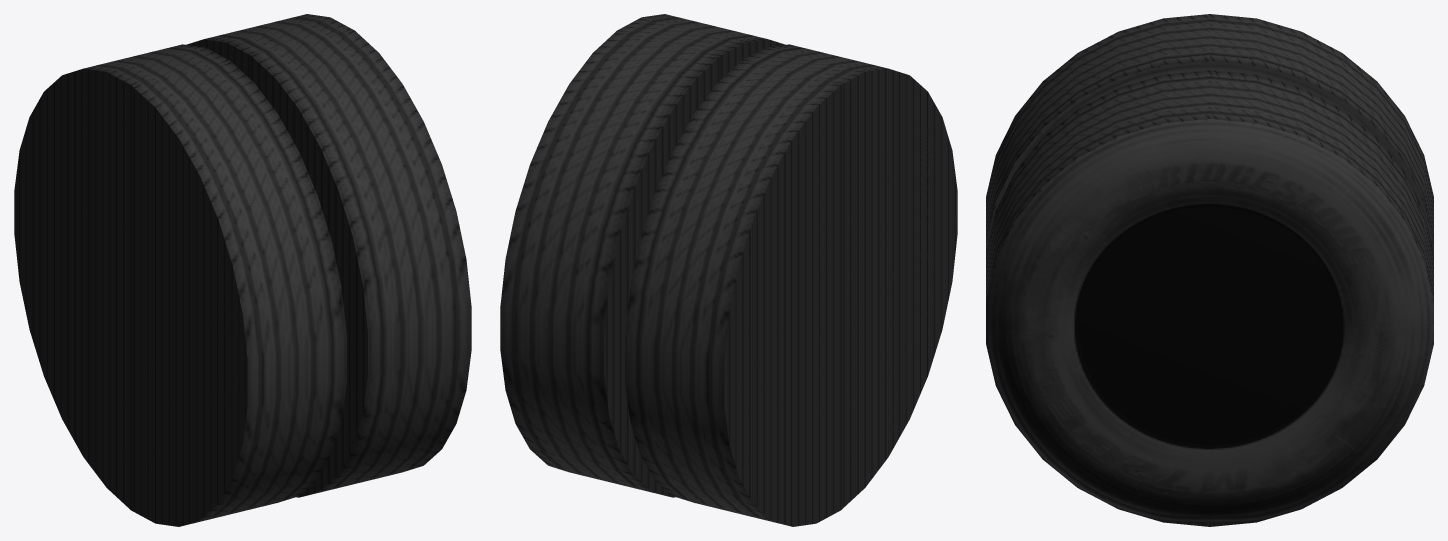
The model's file is Wheel Rear Shadow Caster.fbx.
3 views of the same model, side by side, from view 1: azimuth 30°, elevation 25°; view 2: azimuth 150°, elevation 25°; view 3: azimuth 270°, elevation 25° (orthographic). The views are drawn at different scales.
Visible parts, largest first — view 1: RL Tyre; view 2: RL Tyre; view 3: RL Tyre.
Boxes of the visible parts, bbox=[...] form: RL Tyre: bbox=[14, 14, 471, 526]; RL Tyre: bbox=[500, 14, 957, 526]; RL Tyre: bbox=[986, 14, 1433, 526].
Size of the model in its own units: 66.43 by 114 by 115.
